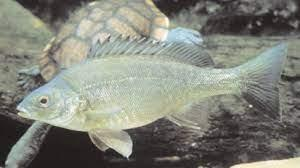Silver Perch: (17, 33, 290, 157)
